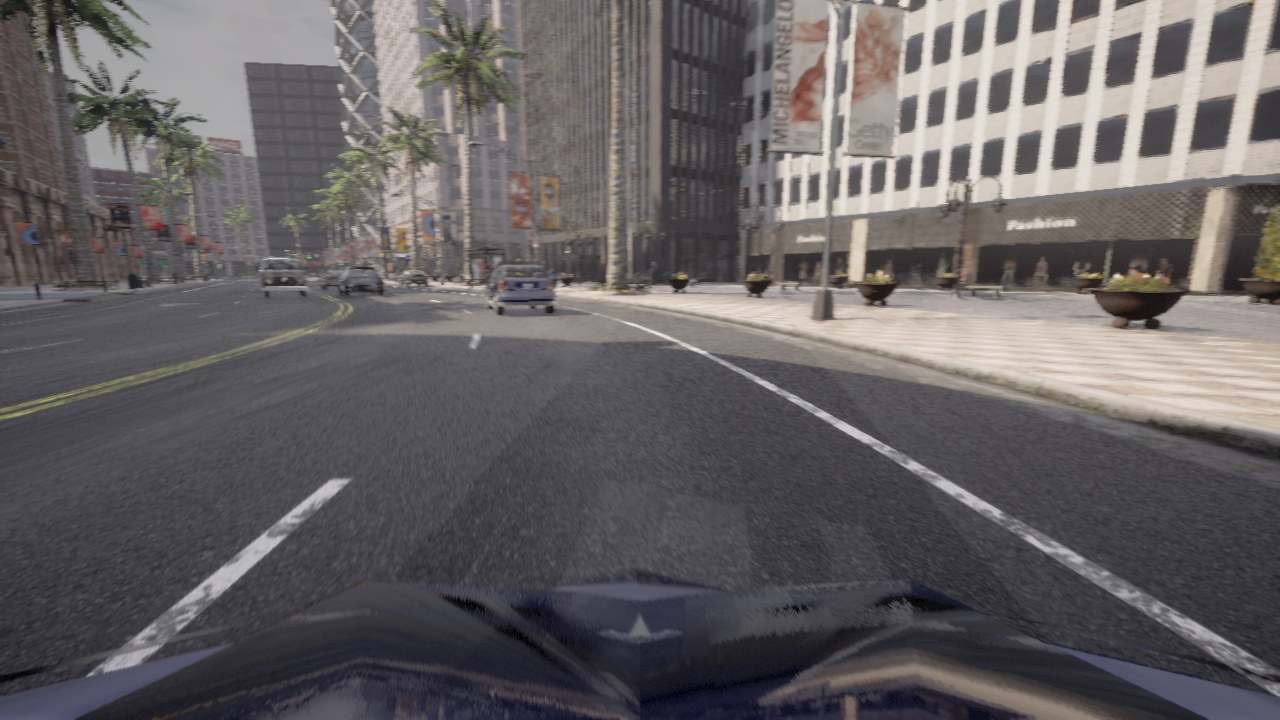cyclist: (0, 569, 1279, 719), (484, 262, 555, 315), (256, 257, 307, 298), (337, 266, 384, 296), (398, 270, 428, 286), (319, 269, 342, 289)
